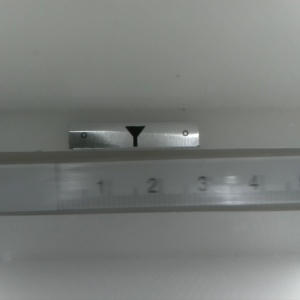2: (146, 176, 157, 194)
finger: (123, 126, 145, 147)
